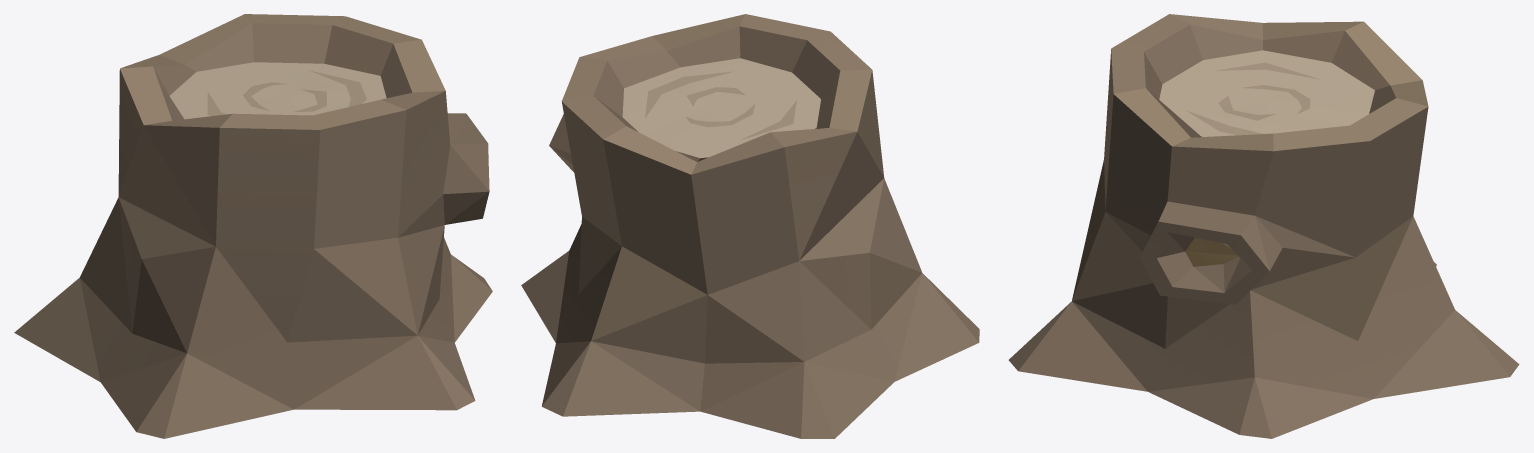
The model's file is SM_Generic_TreeStump_01.obj.
3 renders of one model, left to right at view 1: azimuth 30°, elevation 25°; view 2: azimuth 150°, elevation 25°; view 3: azimuth 270°, elevation 25°, orthographic. The views are drawn at different scales.
Visible parts, largest first — view 1: SM_Generic_TreeStump_01_0; view 2: SM_Generic_TreeStump_01_0; view 3: SM_Generic_TreeStump_01_0.
Boxes of the visible parts, <box> form: SM_Generic_TreeStump_01_0: <box>14,14,492,438</box>; SM_Generic_TreeStump_01_0: <box>521,14,979,438</box>; SM_Generic_TreeStump_01_0: <box>1008,14,1519,438</box>.
Size of the model in its own units: 0.7776 by 0.4976 by 0.821.
Materials: 1 (1 with a texture image).
